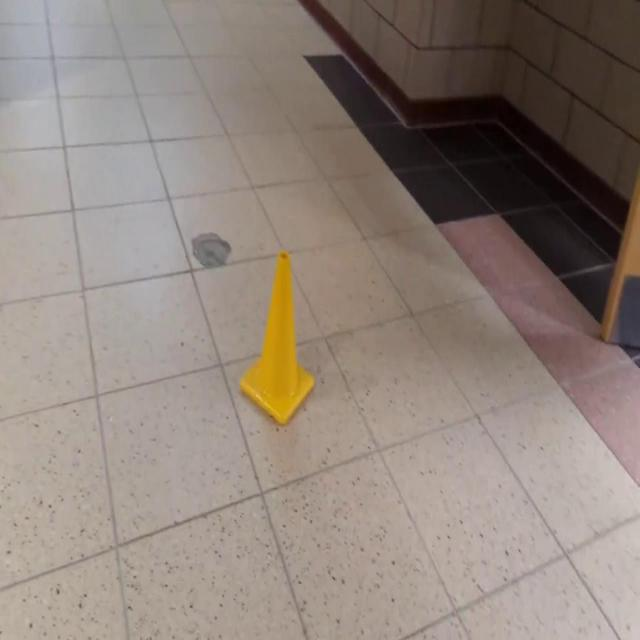frc_cone: (238, 249, 316, 428)
